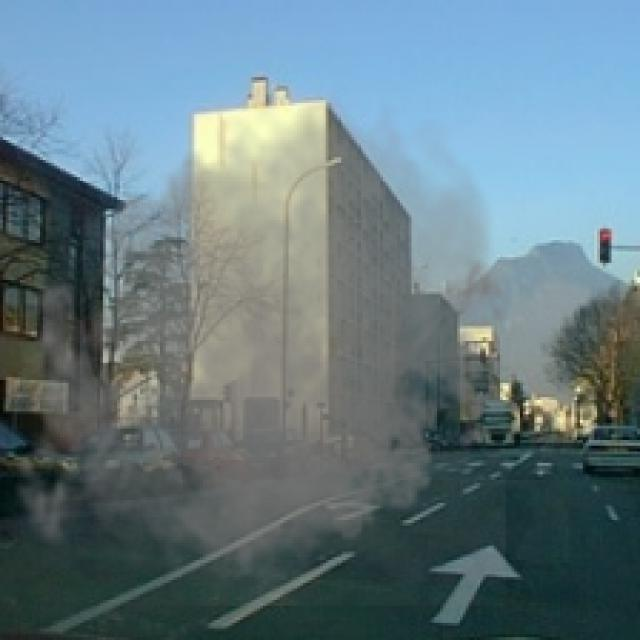Smoke: (0, 77, 517, 606)
